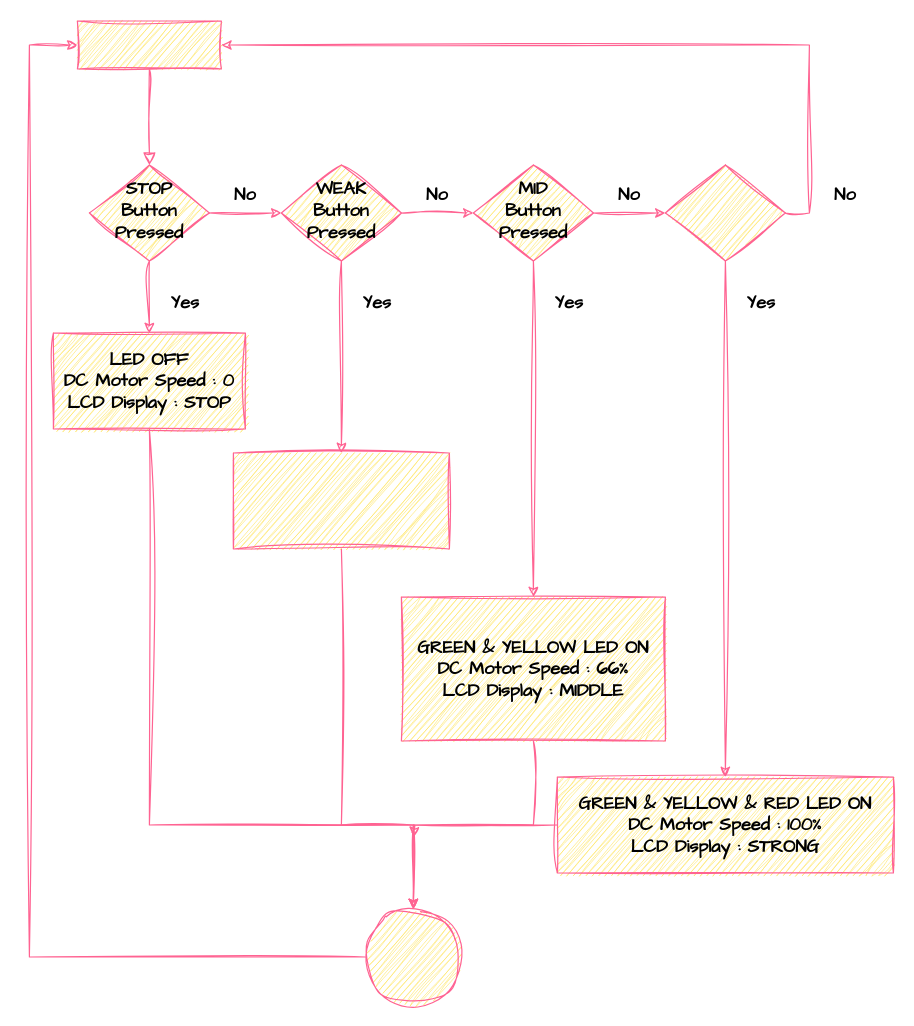
The diagram is 914 pixels wide and 1026 high, and some of its shapes have lost their labels. The shapes that lost their labels are listed below. From the top down, each one's centre as x and y in pixels, then its label:
(148,44): START
(724,212): STRONG Button Pressed
(340,500): GREEN LED ON DC Motor Speed : 33% LCD Display : WEAK
